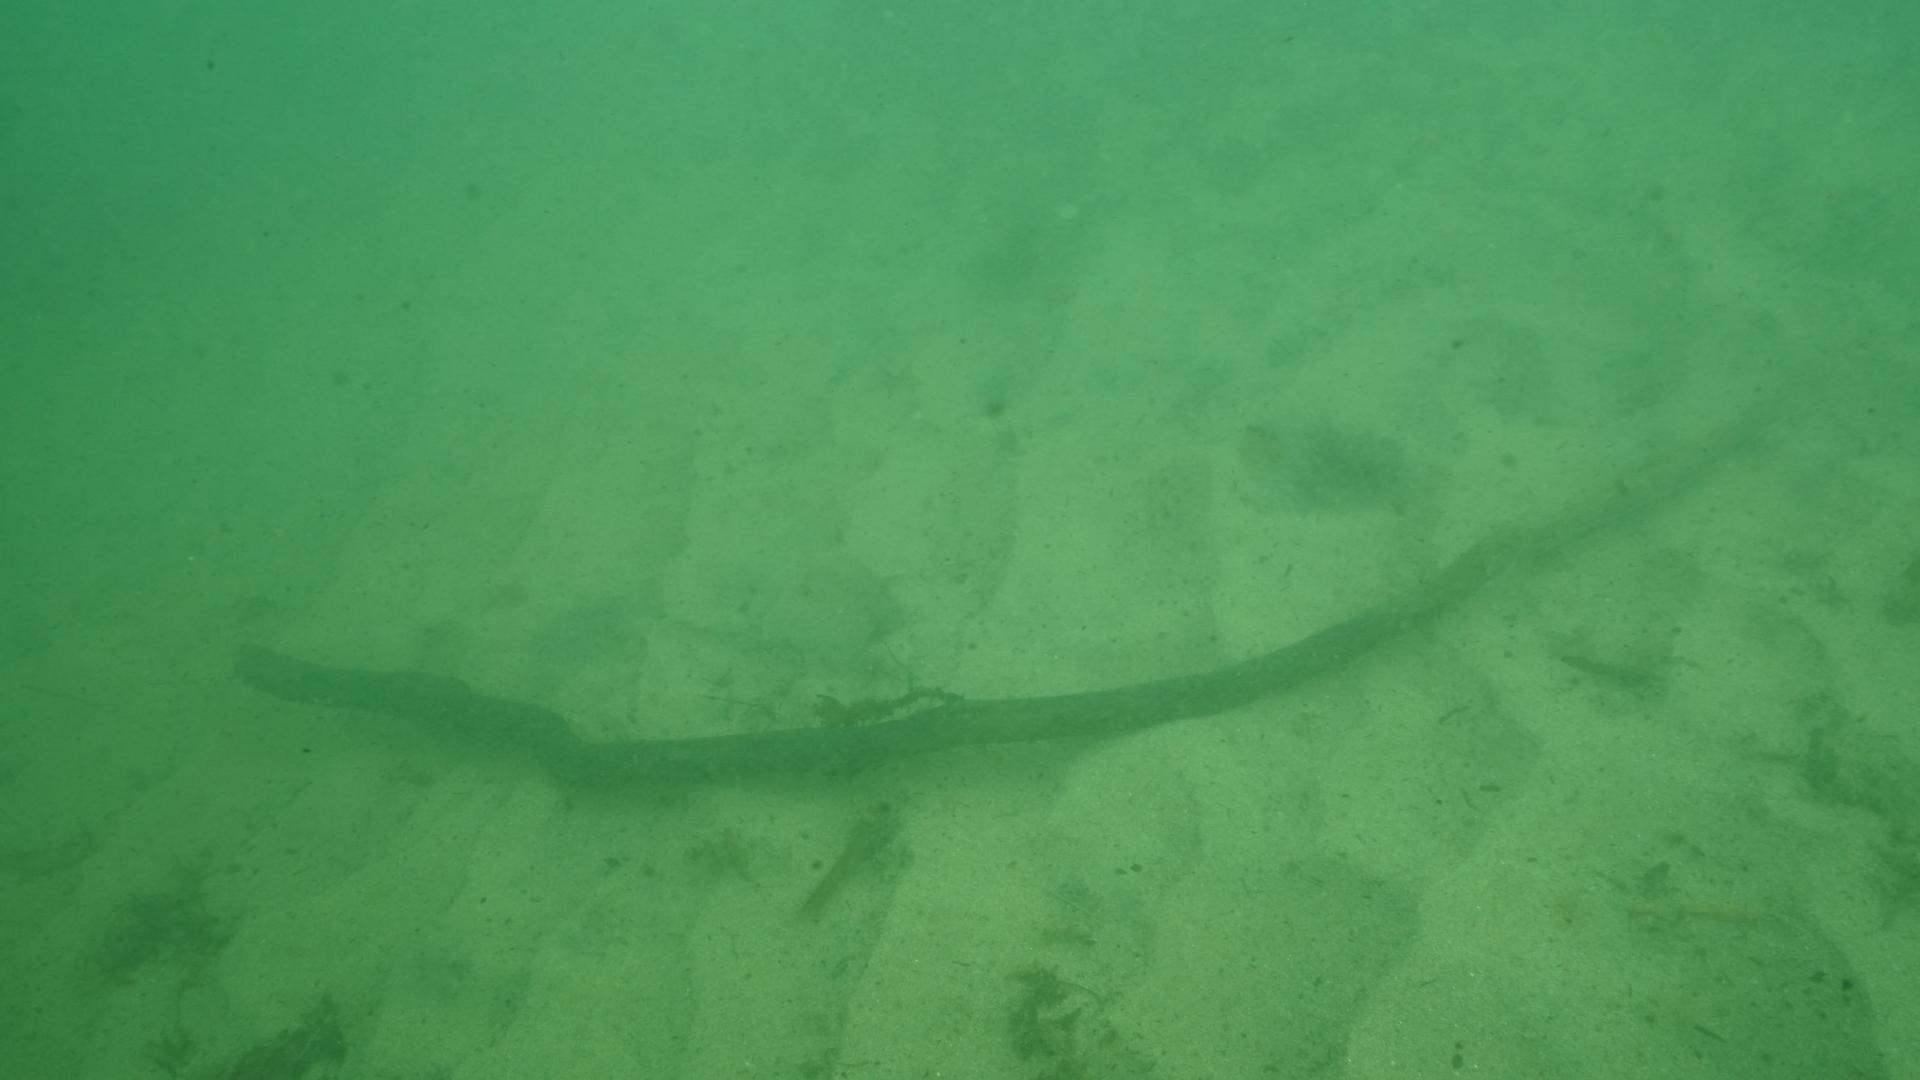wood: (231, 311, 1804, 789)
